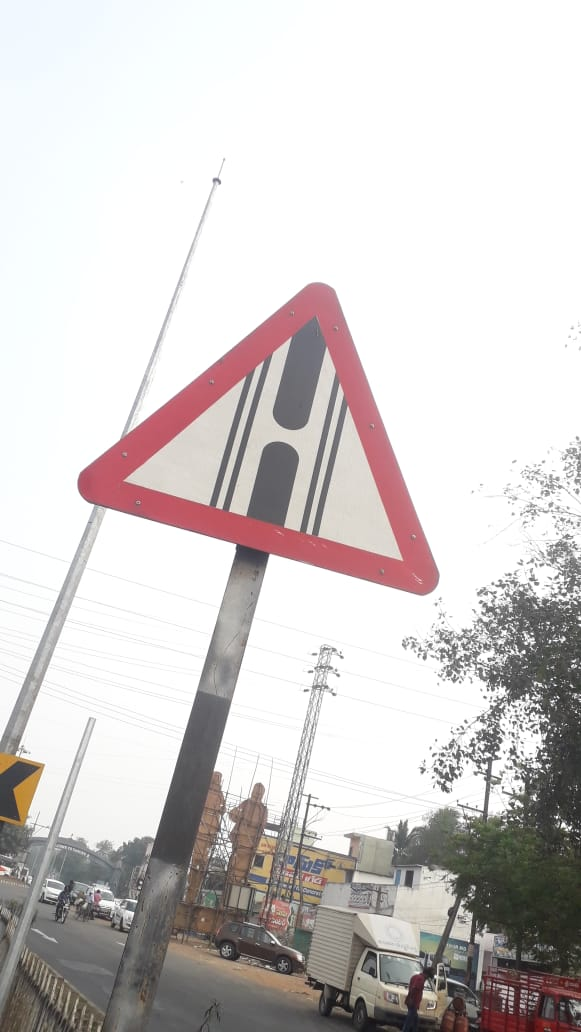highway go straight: (60, 265, 457, 625)
